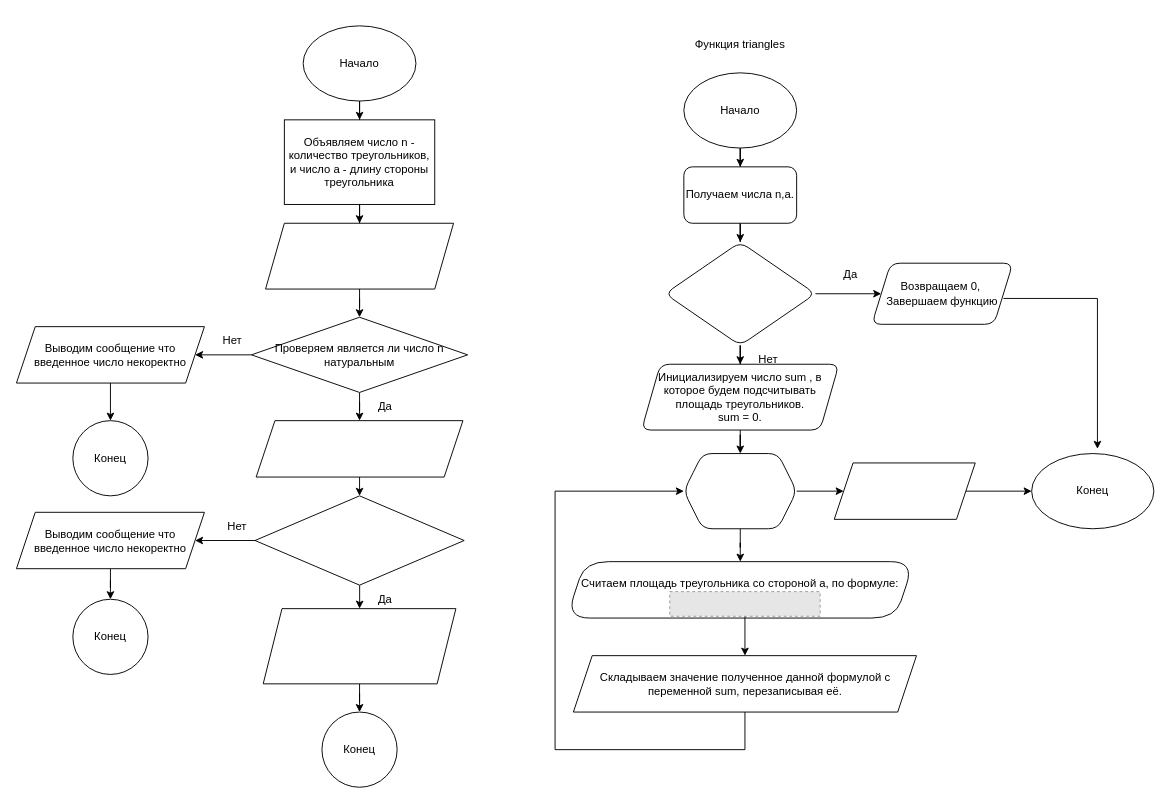
This 1170x804 diagram has some shape labels left out. Grey dashed boxes stand in for pictures. The shapes that lost their labels are listed below. From the top down, each one's centre as x and y in pixels, then its label:
At point (359, 255): "Инициализируем число n".
At point (739, 293): "а = 0 ?".
At point (359, 448): "Инициализируем число a".
At point (740, 491): "i от 0 до n, шаг 1".
At point (904, 490): "Возвращаем sum/n.".
At point (359, 540): "Проверяем является ли число a не отрицательным".
At point (359, 646): "Вызываем функцию triangels, с аргументами n и a. Результат выводим.".
